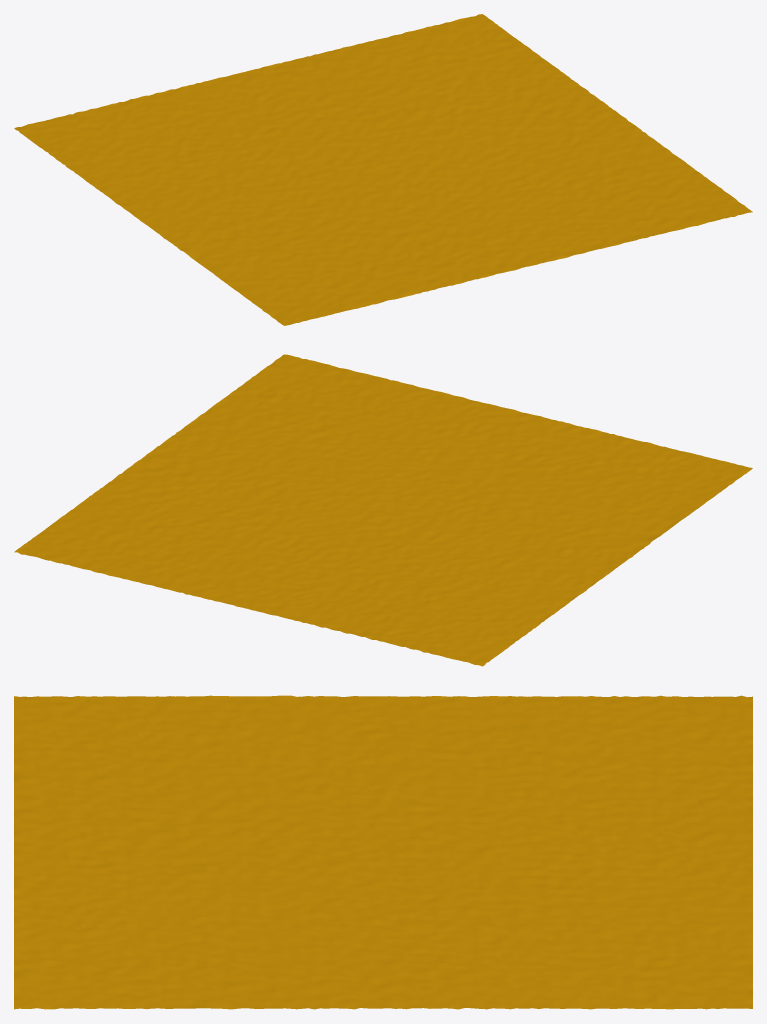
Rendered from strand.fbx.
The picture shows the model from 3 angles, top to bottom: view 1: azimuth 30°, elevation 25°; view 2: azimuth 150°, elevation 25°; view 3: azimuth 270°, elevation 25°; orthographic projection. The views are drawn at different scales.
Parts seen in each view (by area): view 1: Plane; view 2: Plane; view 3: Plane.
Part boxes in pixels (x1,y1,x2,y2): Plane: (14,14,752,325); Plane: (14,354,752,666); Plane: (14,695,752,1009).
Bounding box in the file's own units: 2345 × 269 × 2345.
